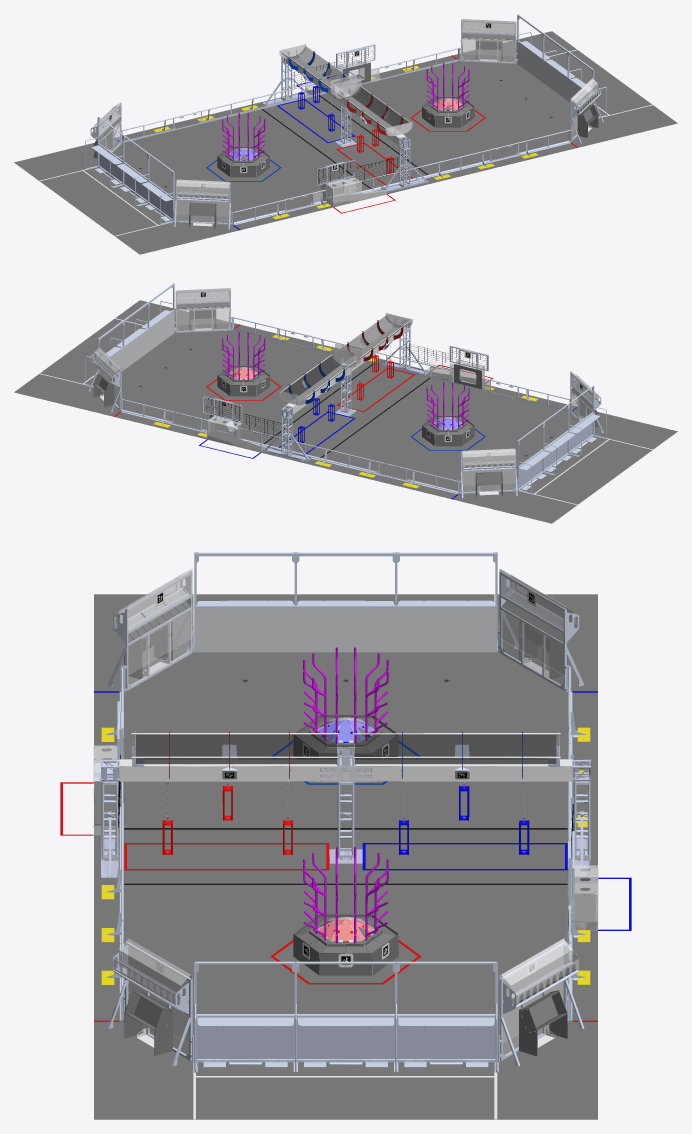
Rendered from field2025.glb.
The picture shows the model from 3 angles, top to bottom: view 1: azimuth 30°, elevation 25°; view 2: azimuth 150°, elevation 25°; view 3: azimuth 270°, elevation 25°; orthographic projection. The views are drawn at different scales.
Parts seen in each view (by area): view 1: carpet, GE-25001-08, GE-25021, GE-25014, FE-00083_ID2, GE-25018-01, GE-25228, FE-00004-01, GE-25301, GE-25307, FE-00082, tape_Truss1 (+3 smaller); view 2: carpet, GE-25001-08, GE-25021, GE-25014, FE-00083_ID2, GE-25018-01, GE-25228, FE-00004-01, GE-25301, GE-25307, FE-00082, tape_Truss1 (+3 smaller); view 3: carpet, GE-25001-08, GE-25021, GE-25014, FE-00083_ID2, FE-00004-01, GE-25018-01, GE-25228, GE-25301, GE-25307, tape_Truss1, FE-00082 (+2 smaller).
Part boxes in pixels (box(x1,y1,x2,y2)): carpet: box(14, 31, 677, 254); GE-25001-08: box(85, 14, 606, 229); GE-25021: box(91, 19, 601, 216); GE-25014: box(91, 29, 600, 228); FE-00083_ID2: box(39, 22, 652, 236); GE-25018-01: box(97, 29, 595, 219); GE-25228: box(282, 46, 408, 128); FE-00004-01: box(517, 42, 592, 108); GE-25301: box(222, 63, 469, 161); GE-25307: box(333, 55, 577, 213); FE-00082: box(108, 22, 577, 222); tape_Truss1: box(114, 72, 355, 230); carpet: box(14, 300, 677, 523); GE-25001-08: box(85, 283, 606, 498); GE-25021: box(91, 288, 600, 485); GE-25014: box(91, 298, 600, 497); FE-00083_ID2: box(39, 291, 652, 504); GE-25018-01: box(96, 298, 594, 487); GE-25228: box(283, 315, 409, 397); FE-00004-01: box(99, 311, 174, 377); GE-25301: box(222, 332, 469, 430); GE-25307: box(114, 324, 492, 416); FE-00082: box(114, 291, 583, 491); tape_Truss1: box(199, 398, 577, 499); carpet: box(94, 594, 597, 1119); GE-25001-08: box(94, 552, 597, 1072); GE-25021: box(93, 569, 598, 1042); GE-25014: box(94, 590, 597, 1056); FE-00083_ID2: box(93, 589, 573, 1119); FE-00004-01: box(195, 607, 496, 652); GE-25018-01: box(101, 588, 590, 1058); GE-25228: box(135, 735, 556, 764); GE-25301: box(303, 647, 388, 943); GE-25307: box(60, 782, 597, 1021); tape_Truss1: box(94, 691, 631, 930); FE-00082: box(127, 589, 564, 1054).
Size of what is drawn, in the model's own units: 22.56 by 2.57 by 10.37.
